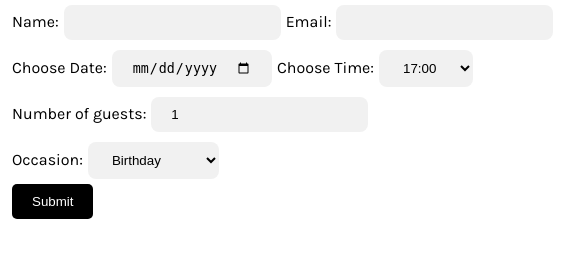
it: Booking Form › shows an error message if the number of guests is less than 1
Replace the text in the number field with "-2" at (260, 115), box top-left (151, 97), bottom-right (368, 132)
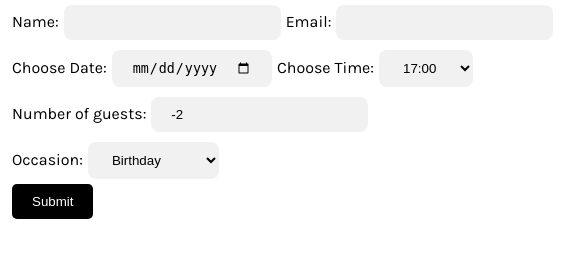
Leave the number field, box top-left (151, 97), bottom-right (368, 132)
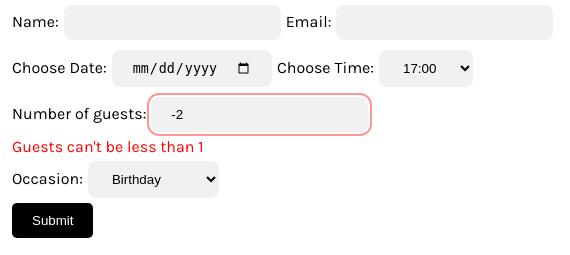
Expected: the text with test id "guests" reads "Guests can't be less than 1", top-left (12, 137), bottom-right (204, 156)
